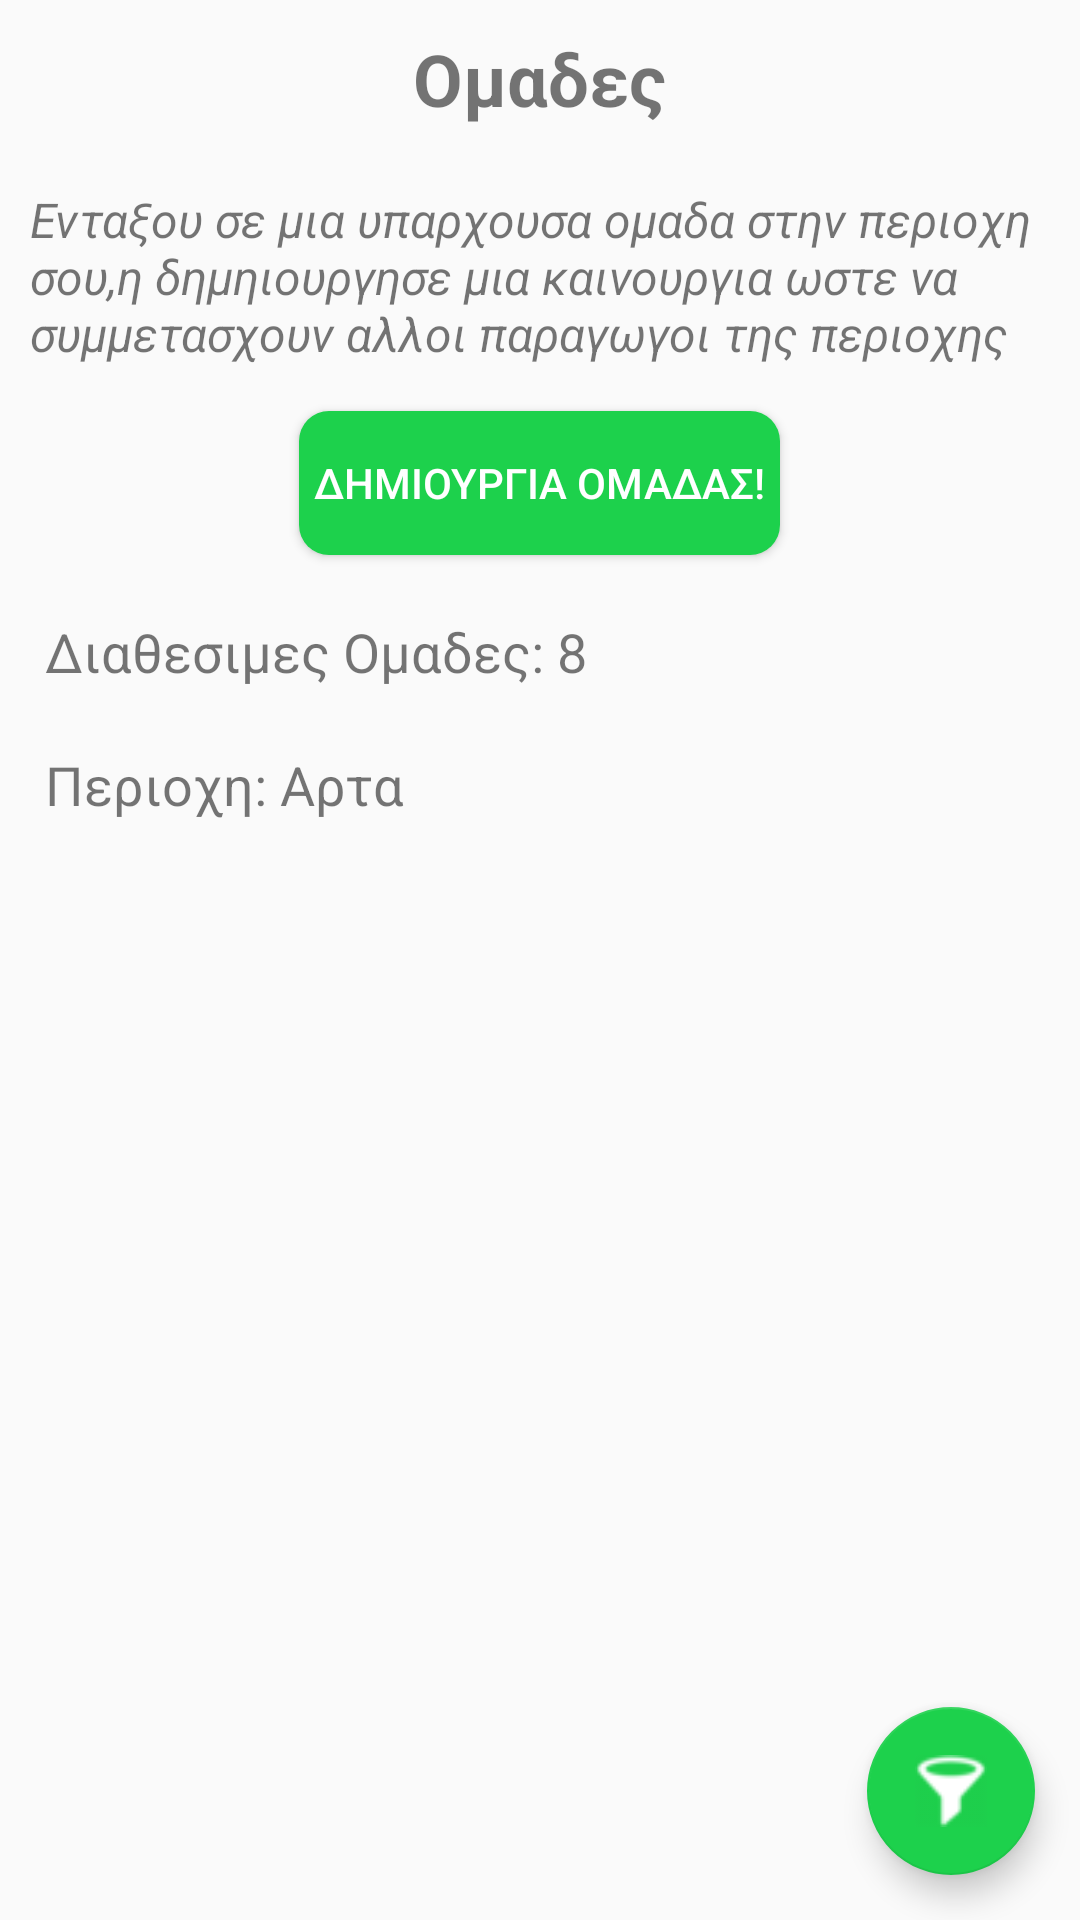

Point at icon controls on the screen. Image size 1080 × 1920, points as (x,y).
filters: (951,1791)
